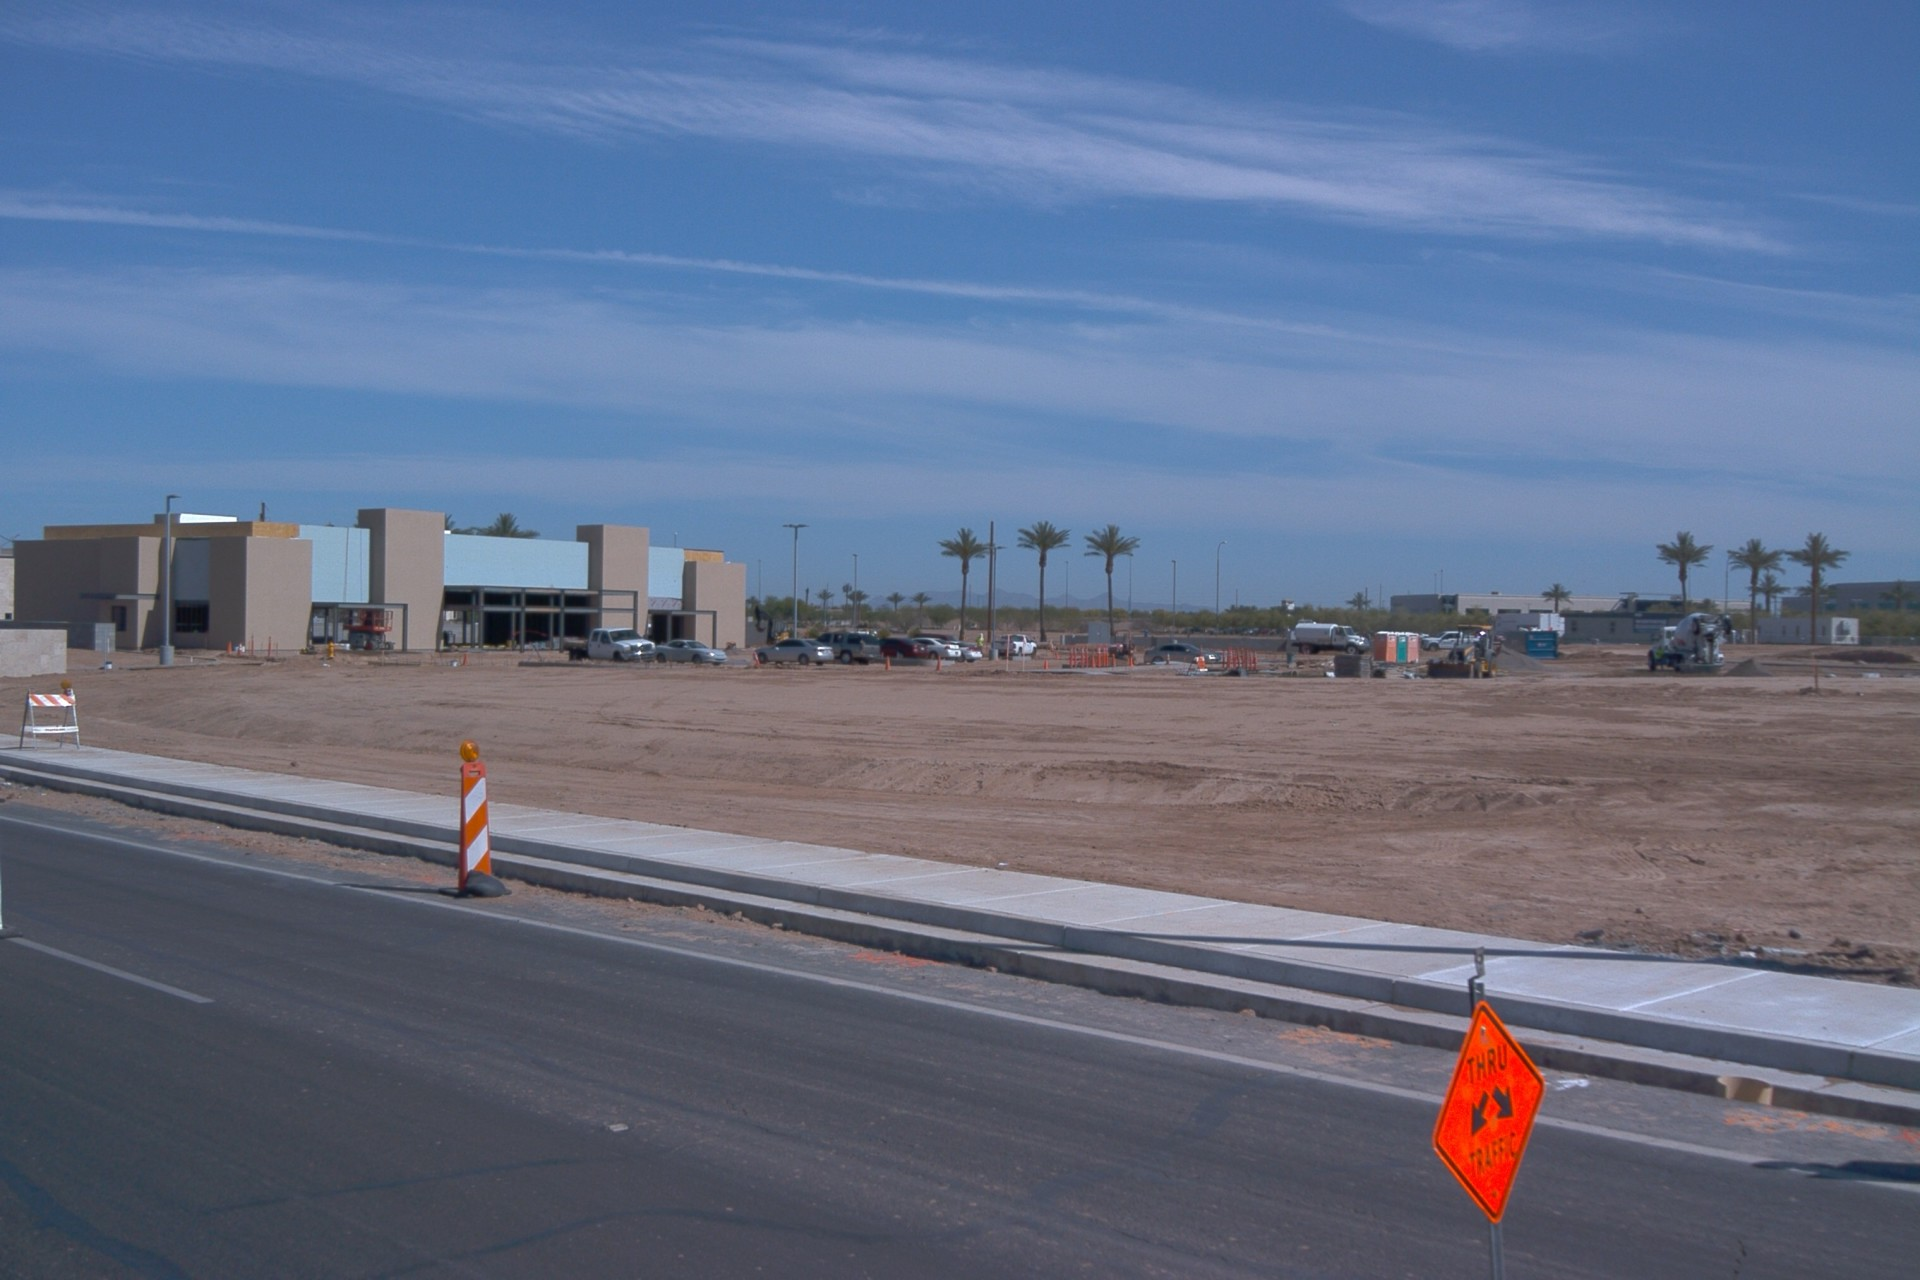TYPE_PEDESTRIAN: (1655, 645, 1668, 672), (976, 630, 986, 656)
TYPE_VEHICLE: (1647, 609, 1737, 672), (1426, 620, 1503, 678), (565, 622, 660, 663), (812, 623, 885, 667), (1289, 621, 1371, 660), (751, 636, 836, 666), (874, 628, 931, 661), (652, 639, 728, 663), (1144, 644, 1221, 665), (1423, 629, 1485, 652), (910, 633, 962, 657), (993, 633, 1042, 657), (952, 639, 983, 663), (910, 633, 959, 647), (343, 614, 366, 627), (849, 632, 869, 638), (1418, 634, 1428, 641)
